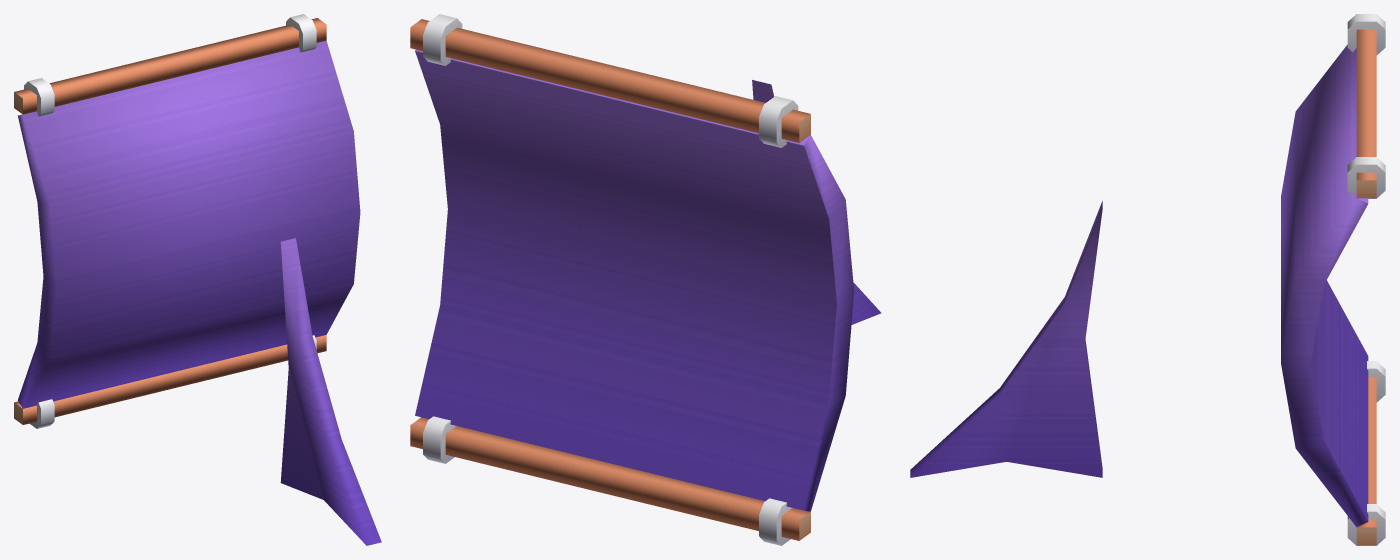
File: sail_purple.glb
3 renders of one model, left to right at view 1: azimuth 30°, elevation 25°; view 2: azimuth 150°, elevation 25°; view 3: azimuth 270°, elevation 25°, orthographic. The views are drawn at different scales.
Parts seen in each view (by area): view 1: sail-a_purple; view 2: sail-a_purple; view 3: sail-a_purple.
Boxes of the visible parts, x1,y1,x2,y2 form: sail-a_purple: (14,14,381,545); sail-a_purple: (410,14,881,545); sail-a_purple: (910,14,1385,545).
Size of the model in its own units: 4.4 by 4.76 by 5.33.
1 material, 1 textured.
